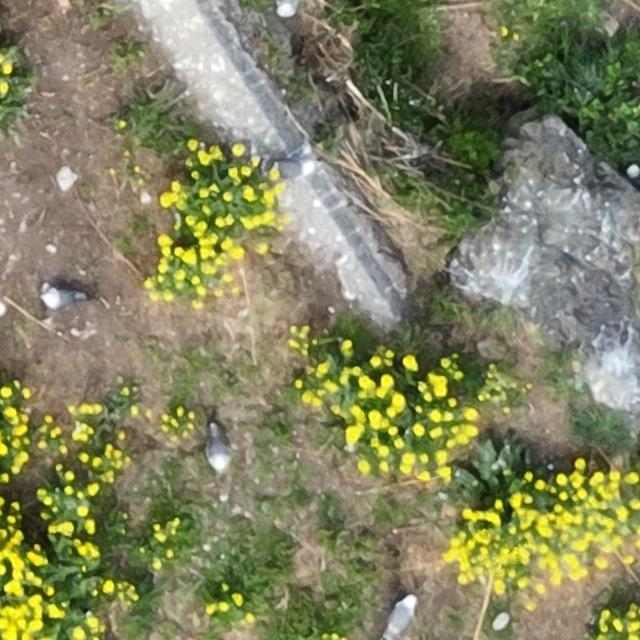umineko: (386, 596, 414, 636), (210, 428, 230, 469), (46, 290, 80, 308), (278, 2, 302, 18), (627, 162, 639, 192)
